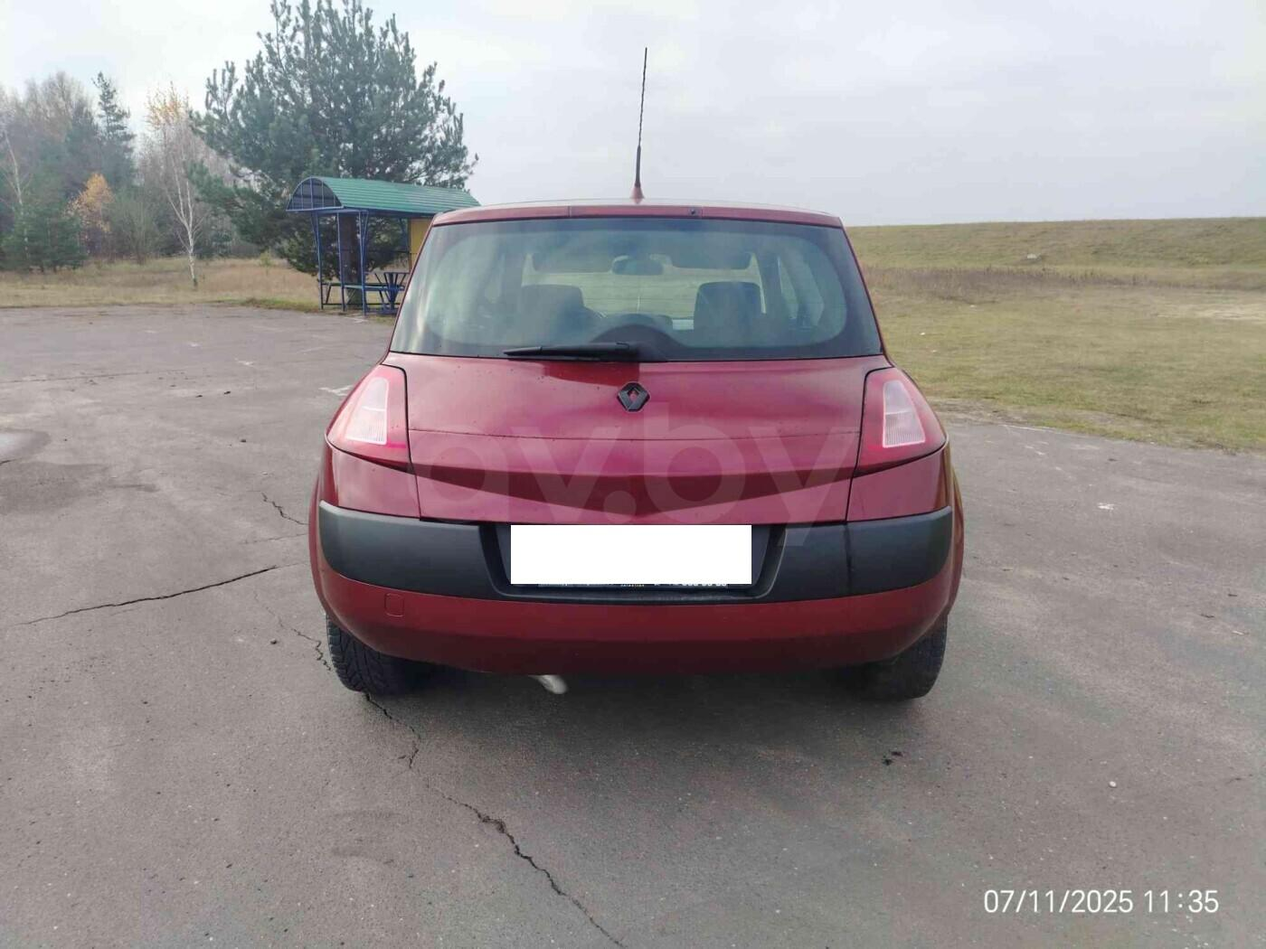Megane_2002-2006: (304, 205, 965, 727)
